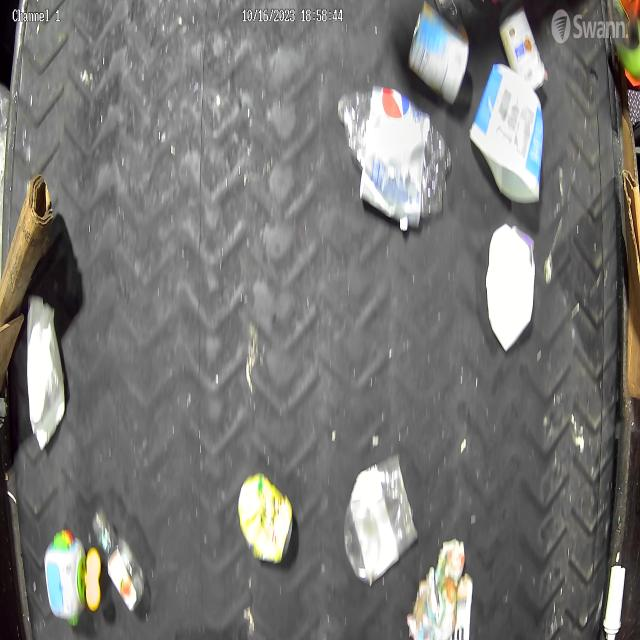can: (407, 0, 470, 103), (238, 471, 295, 563)
plastic_bottle: (337, 90, 452, 218), (93, 505, 145, 613)
